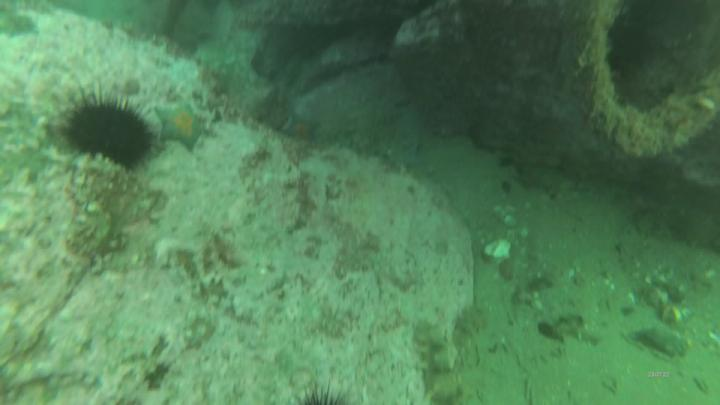echinus: (66, 94, 152, 173)
starfish: (153, 98, 214, 153), (283, 109, 323, 148)
